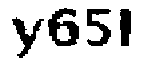5: (83, 5, 113, 55)
6: (46, 4, 82, 53)
l: (115, 5, 136, 59)
y: (9, 15, 42, 60)
